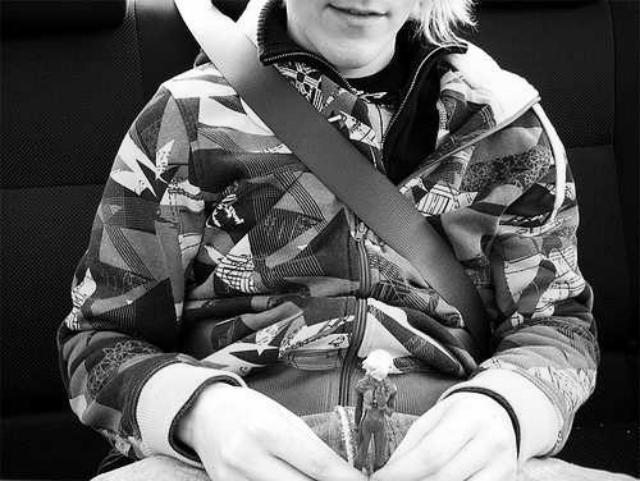Seatbelt: (174, 1, 488, 340)
